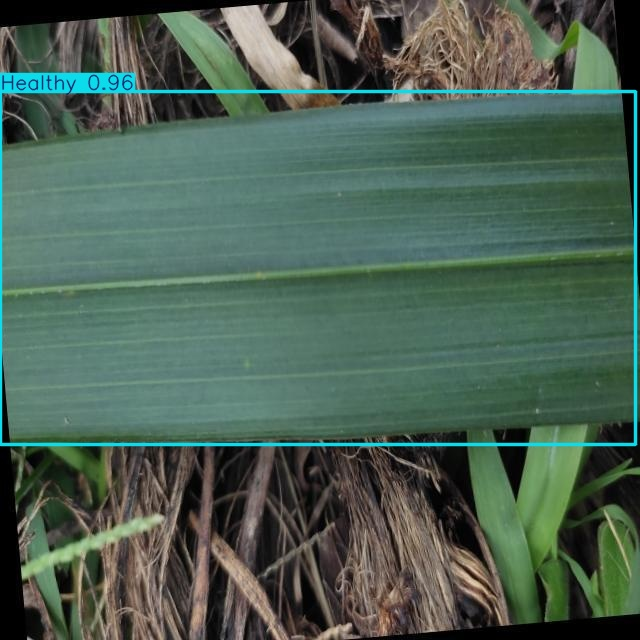Healthy: (0, 91, 636, 445)
